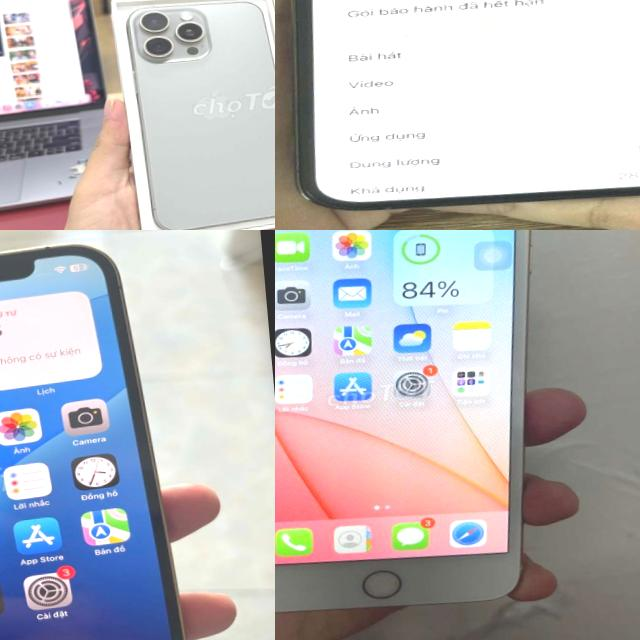gen_12_13: (0, 230, 205, 640), (275, 0, 640, 230)
gen_15: (116, 0, 275, 230)
gen_7_8: (275, 230, 576, 637)
